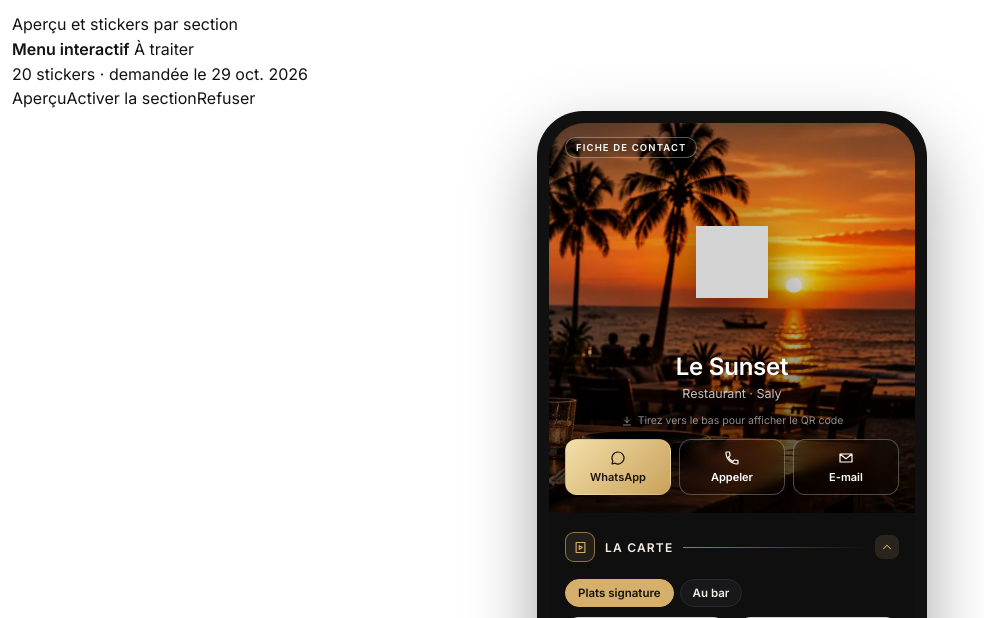
Test: stickers par section (administration) › fiche détail (/admin/fiches/:id) : mini téléphone et demandes de la fiche › activer depuis la fiche envoie la décision et met la liste à jour
Click the button "Activer la section" at (132,99), box [66, 86, 197, 111]
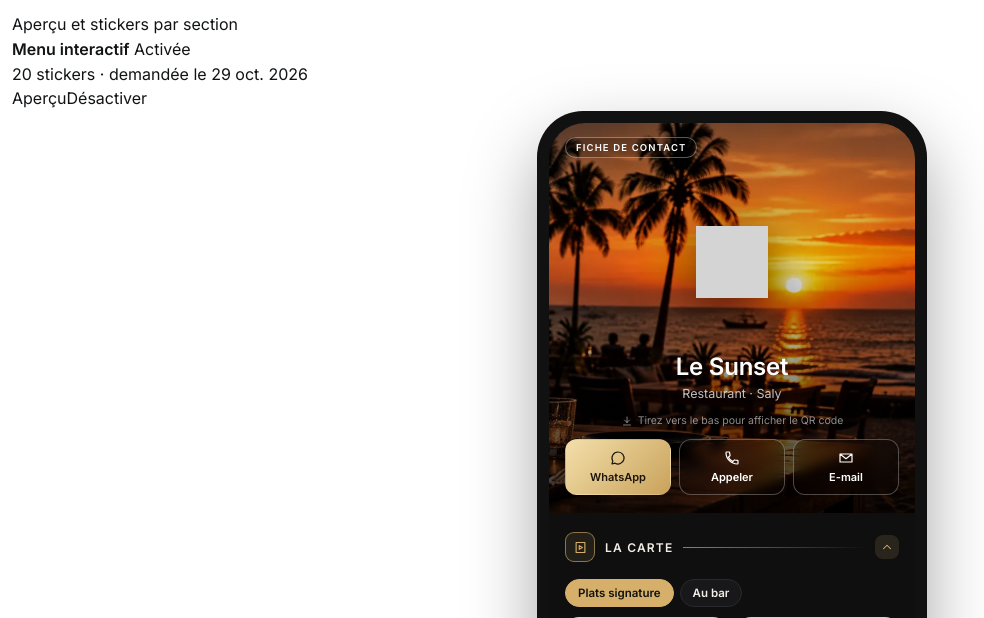
Result: the text "Activée" is shown at [134, 39, 191, 59]
Result: the button "Désactiver" is shown at [66, 86, 147, 111]
